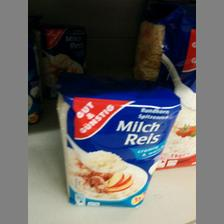Reis: (55, 71, 181, 207), (134, 7, 194, 170)
